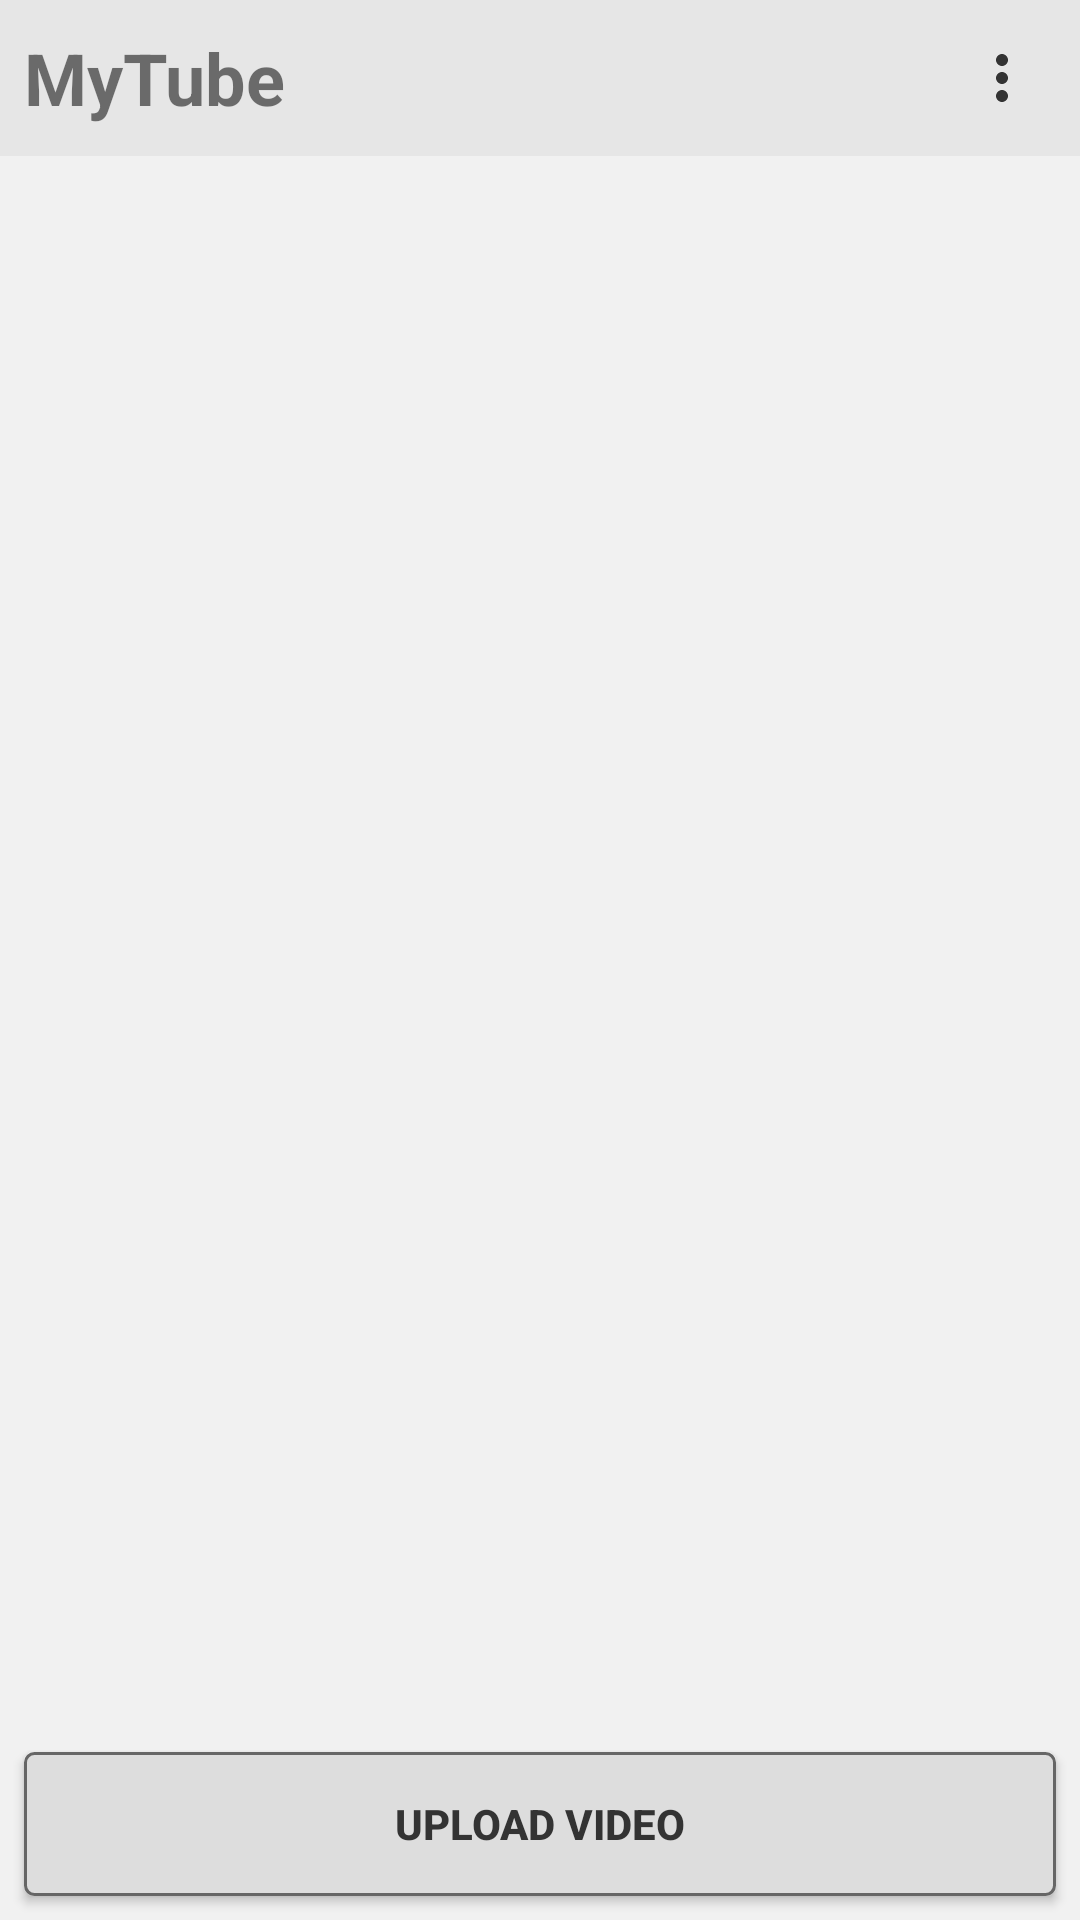

Icon bounding boxes for this 1080px×1920px phone screenshot, format [left=x1, top=y1, right=x2, bottom=y2]:
Menu: [left=996, top=54, right=1008, bottom=102]
